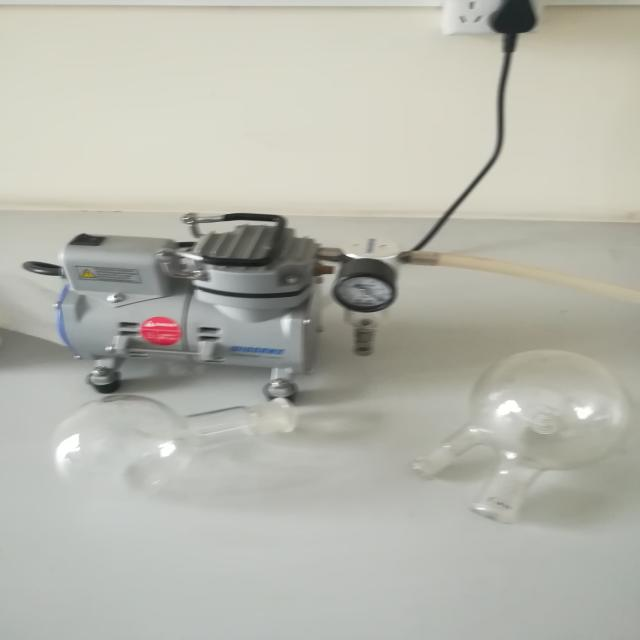Round_Bottom_Flask_Borosilicate_Glass_1_Neck: (19, 344, 333, 529)
Round_Bottom_Flask_Borosilicate_Glass_2_Neck: (407, 346, 640, 548)
